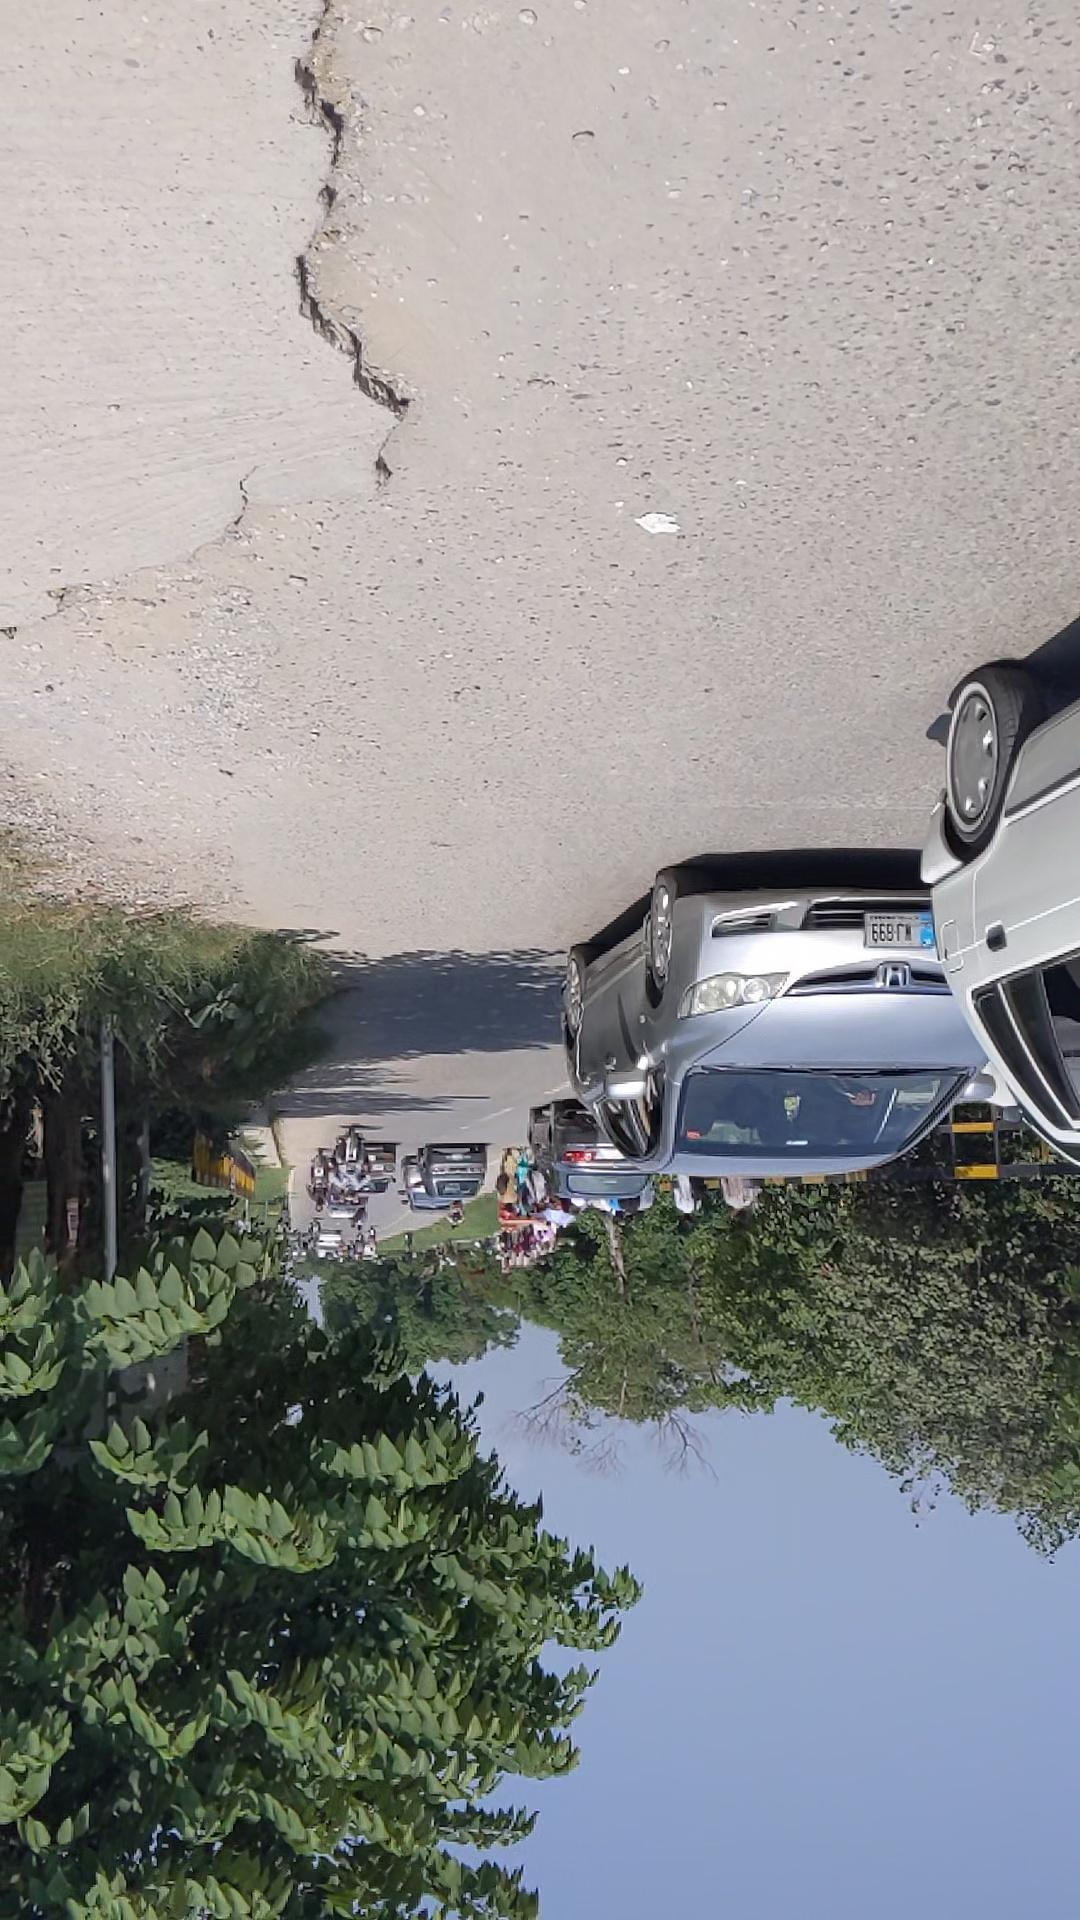windshield: (105, 762, 406, 860)
